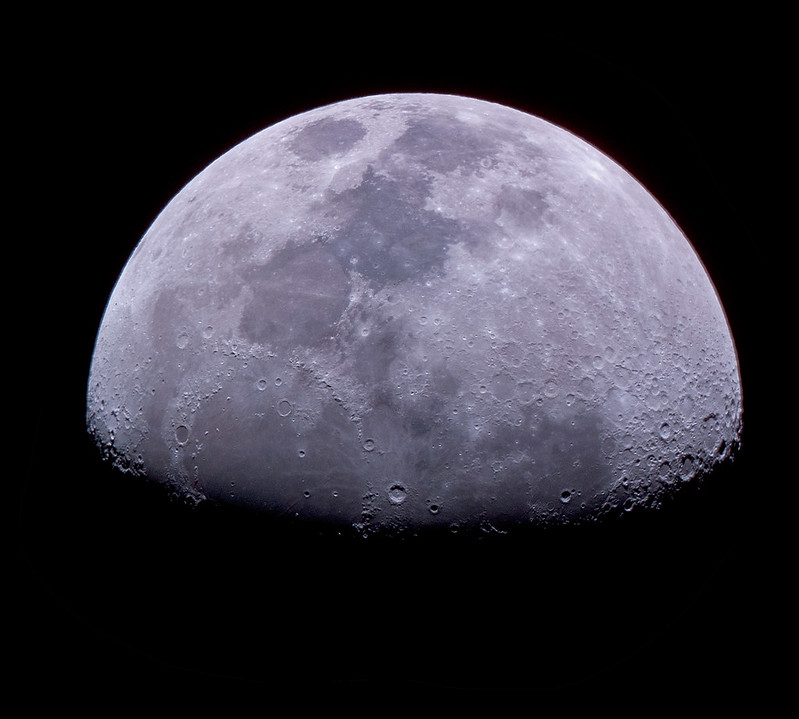crater: (486, 364, 518, 417), (569, 152, 607, 191), (168, 319, 198, 365), (672, 442, 702, 488), (285, 443, 326, 474), (197, 311, 225, 354), (348, 317, 381, 350), (379, 475, 413, 507), (552, 474, 579, 511), (487, 453, 516, 486), (170, 419, 201, 449), (354, 431, 386, 460), (267, 394, 300, 422), (322, 154, 355, 182), (343, 243, 366, 269), (290, 480, 317, 502), (419, 271, 439, 298), (422, 495, 445, 518), (327, 483, 348, 504), (413, 308, 431, 332)
